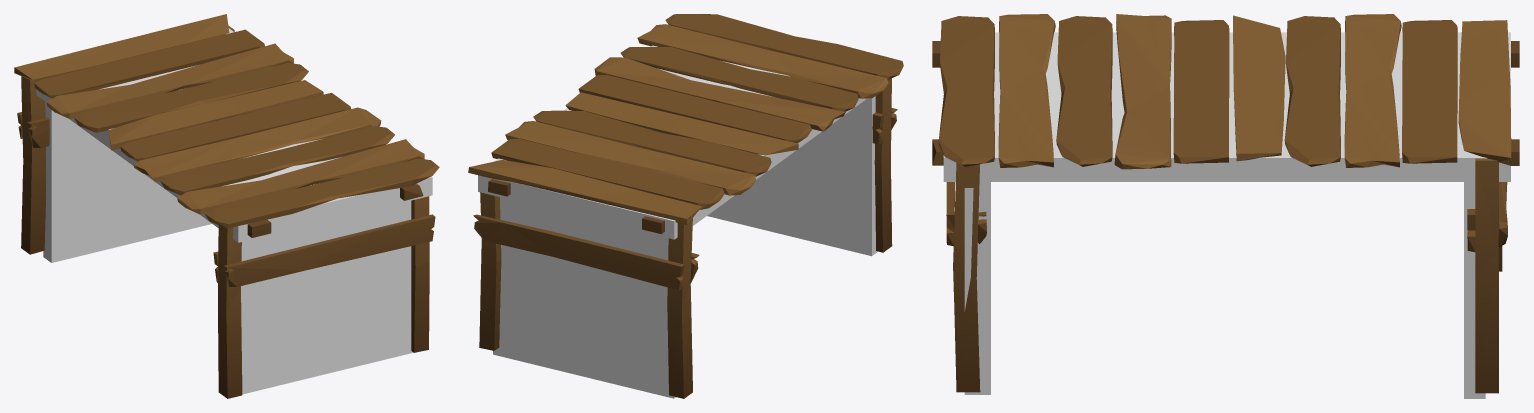
File: modular_wood_1.glb
3 renders of one model, left to right at view 1: azimuth 30°, elevation 25°; view 2: azimuth 150°, elevation 25°; view 3: azimuth 270°, elevation 25°, orthographic. The views are drawn at different scales.
Visible parts, largest first — view 1: ModularWood_01, Cube.011, Cube.009, Cube.001; view 2: ModularWood_01, Cube.009, Cube.011, Cube.001; view 3: ModularWood_01, Cube.001, Cube.011, Cube.009.
Part boxes in pixels (x1,y1,x2,y2): ModularWood_01: [14, 14, 439, 398]; Cube.011: [241, 200, 413, 394]; Cube.009: [43, 102, 211, 262]; Cube.001: [36, 28, 432, 242]; ModularWood_01: [468, 14, 903, 398]; Cube.009: [493, 197, 675, 398]; Cube.011: [707, 96, 877, 256]; Cube.001: [478, 45, 866, 239]; ModularWood_01: [932, 14, 1519, 393]; Cube.001: [943, 32, 1510, 181]; Cube.011: [964, 162, 990, 394]; Cube.009: [1464, 182, 1485, 398].
Bounding box in the file's own units: 1.8 × 1.38 × 2.94.
Materials: 1 (1 with a texture image).
